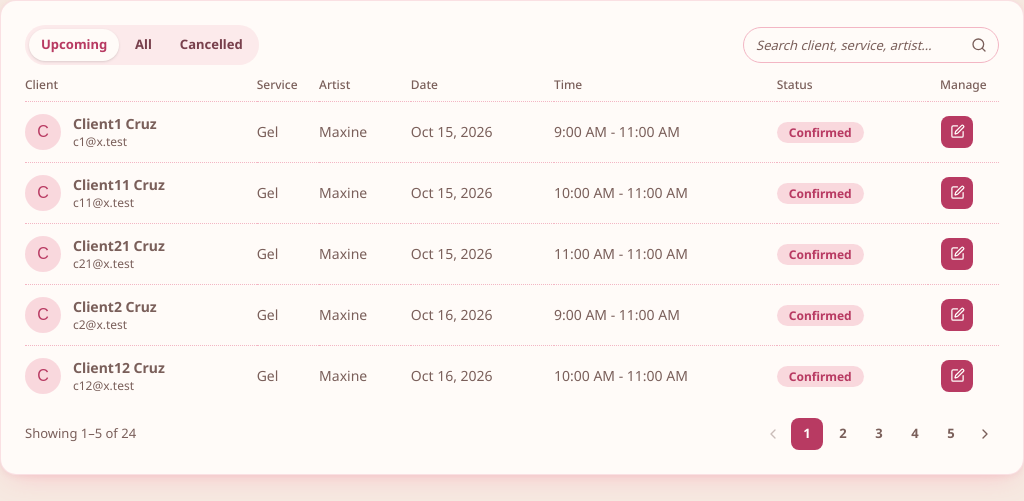
Test: BookingsTable › pages through, and the page numbers say where you are
Click the button named "Page 5" at (951, 434), box [935, 418, 967, 450]
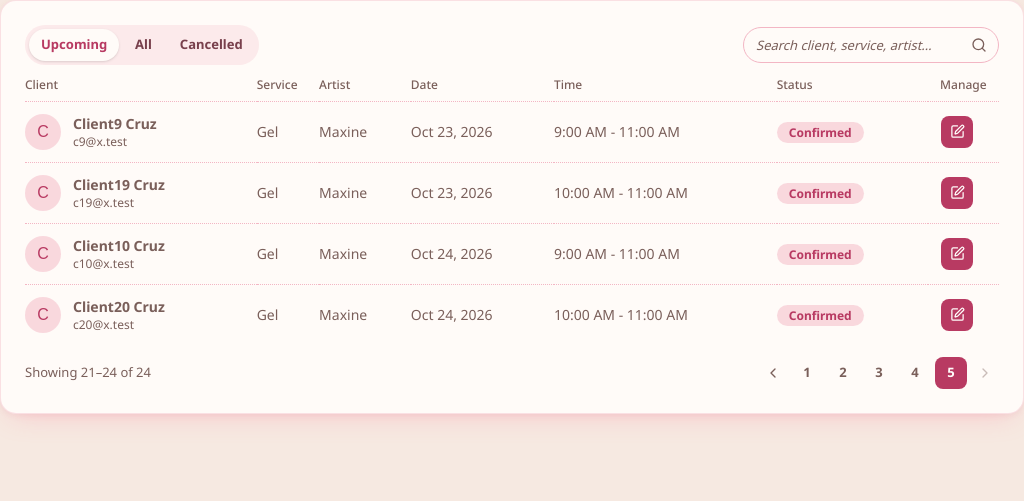
Expected: the button named "Next page" is disabled, [971, 358, 999, 386]
Expected: the text "Showing 21–24 of 24" is shown, [25, 363, 151, 382]
Click the button named "Previous page" at (773, 372), box [759, 358, 787, 386]
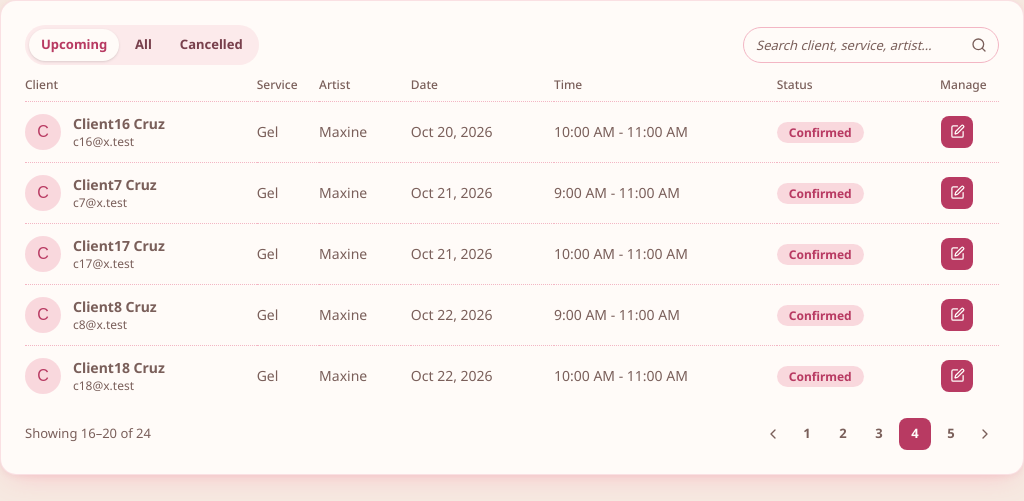
Expected: the text "Showing 16–20 of 24" is shown, [25, 424, 151, 443]
